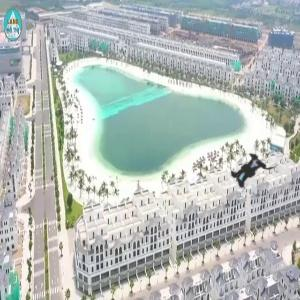drone: (204, 129, 291, 216)
